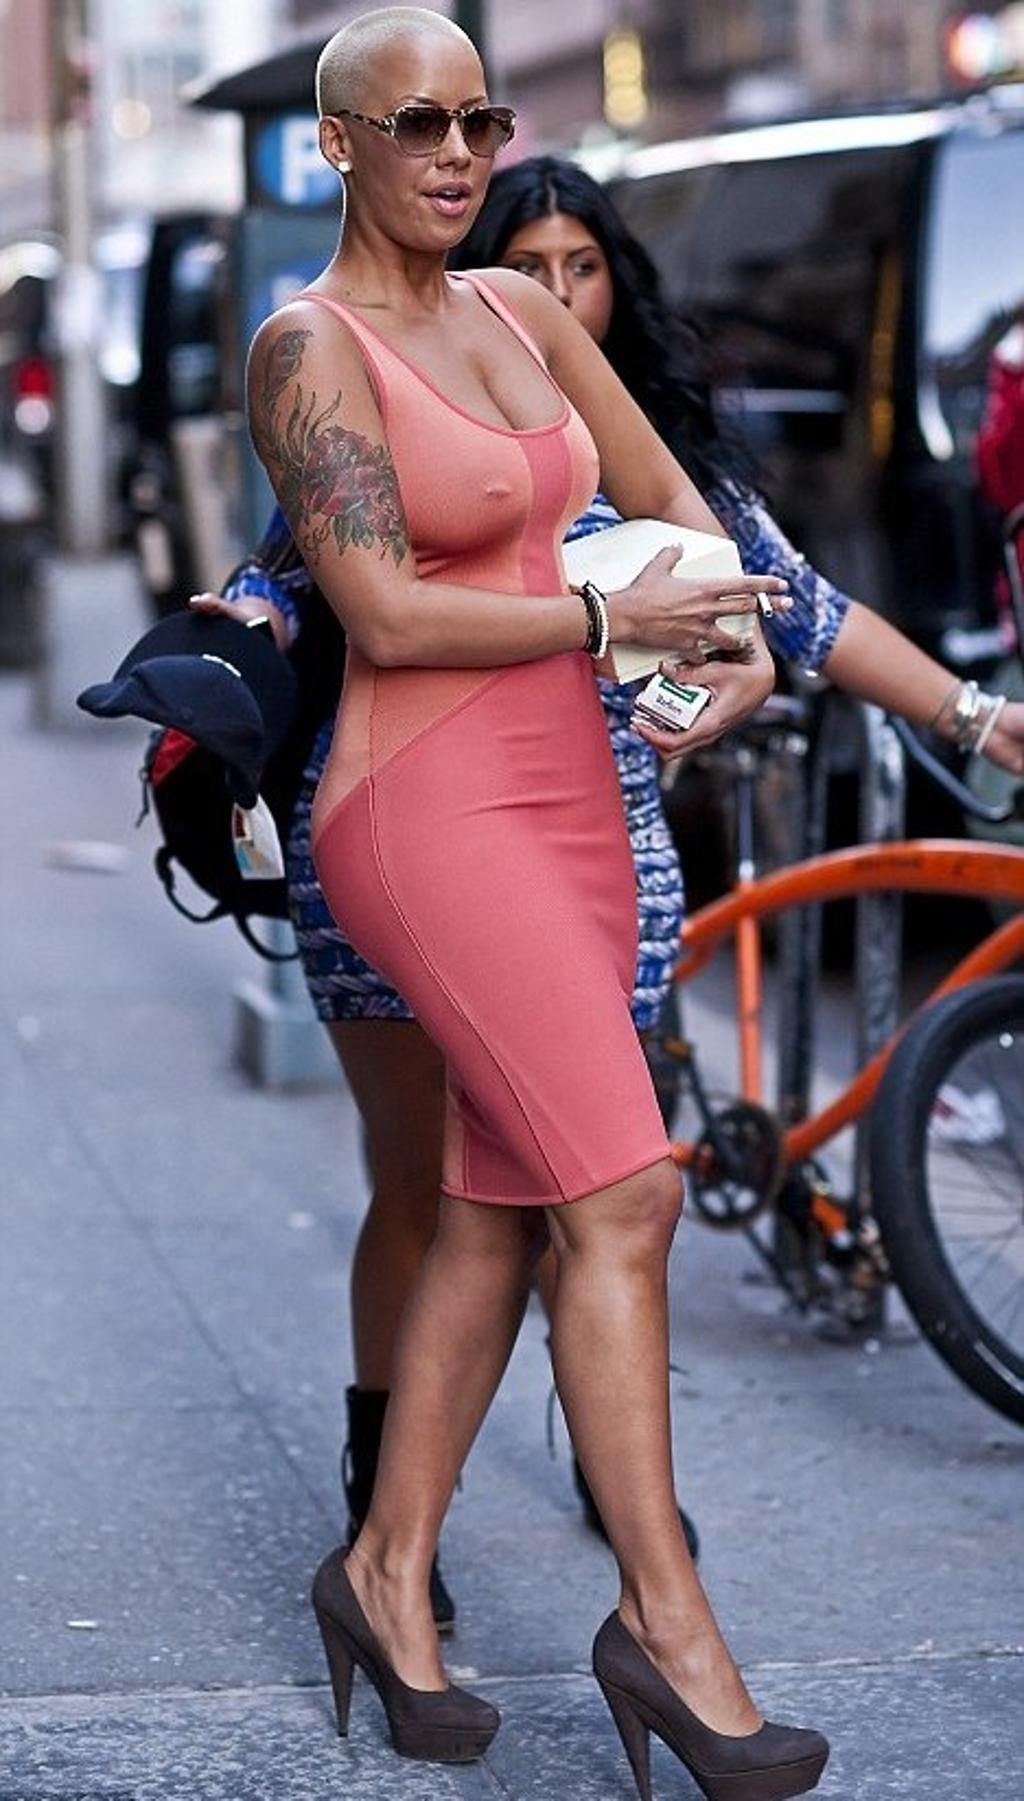face: (369, 53, 499, 250), (493, 211, 613, 373)
